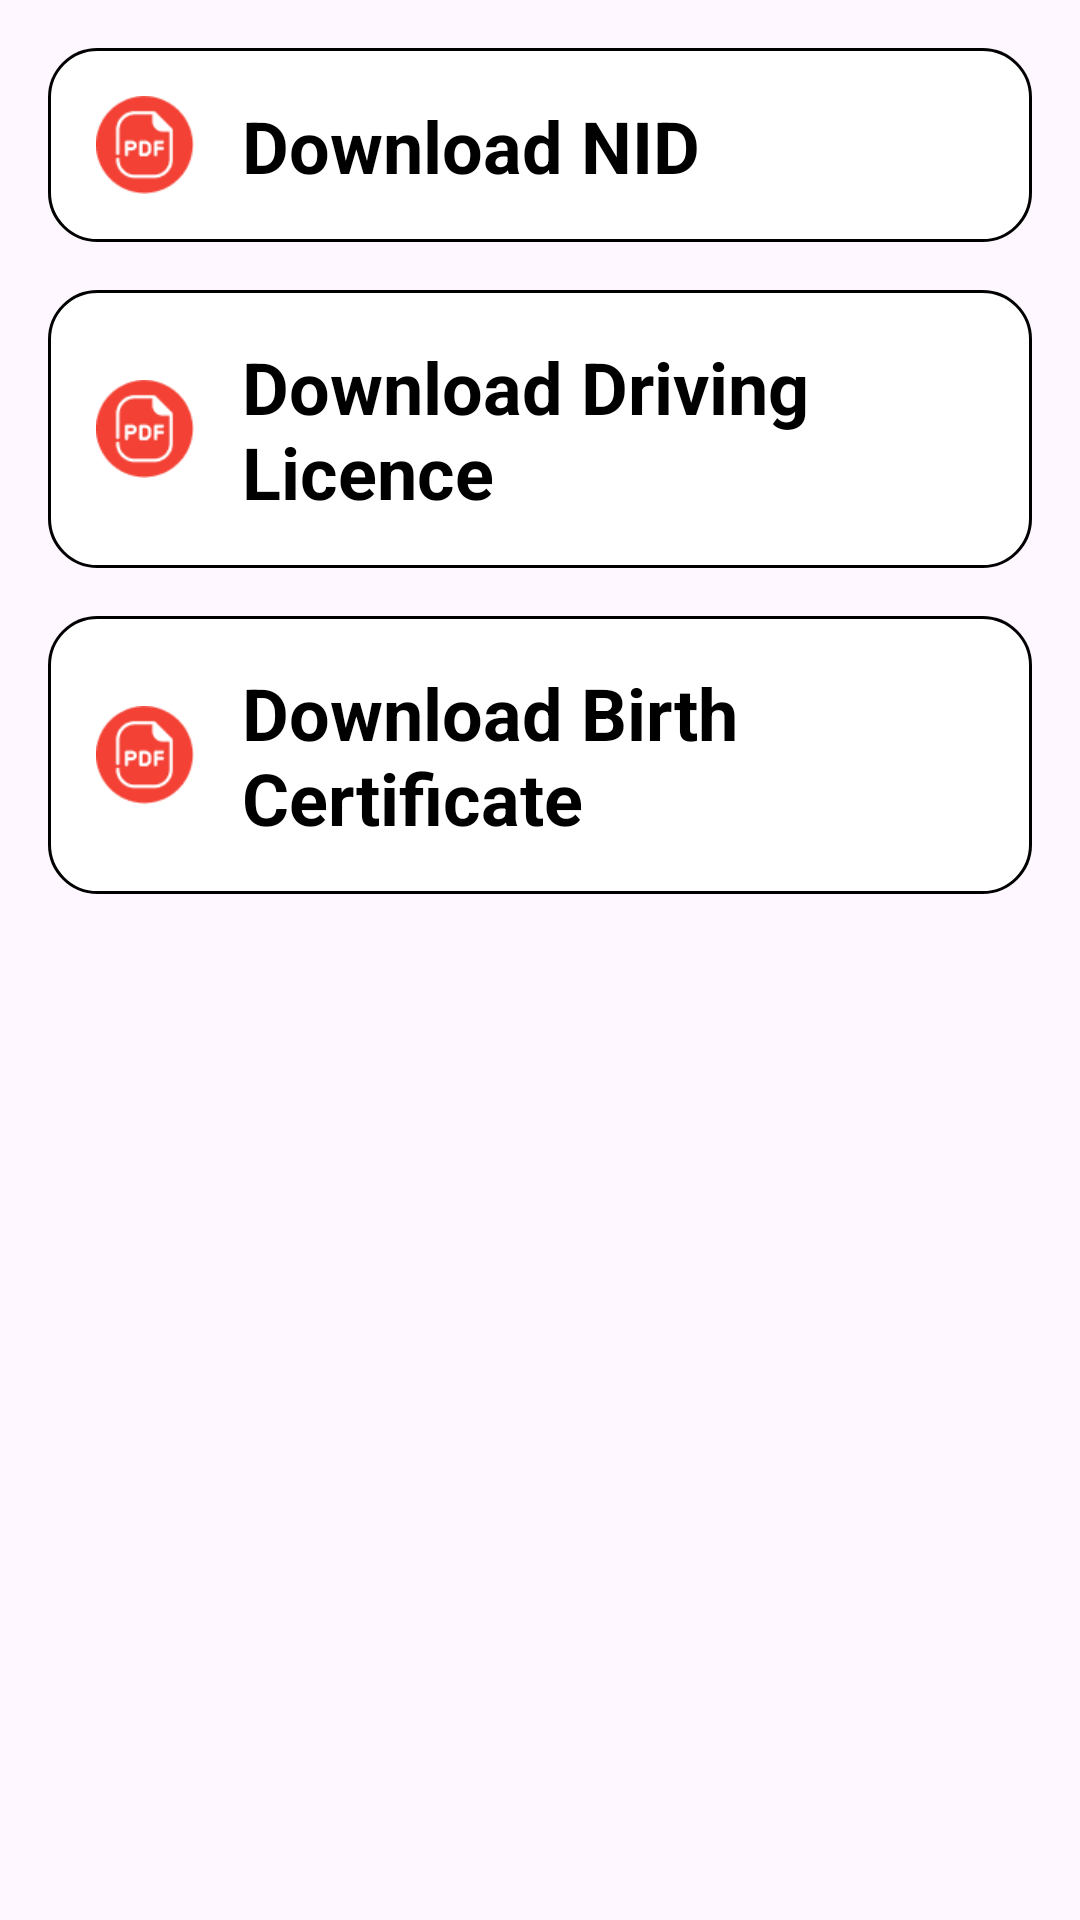

Point at icon controls on the screen. Image size 1080×1920, points as point (x, y).
download pdf: point (145, 145), point (145, 429), point (145, 755)
